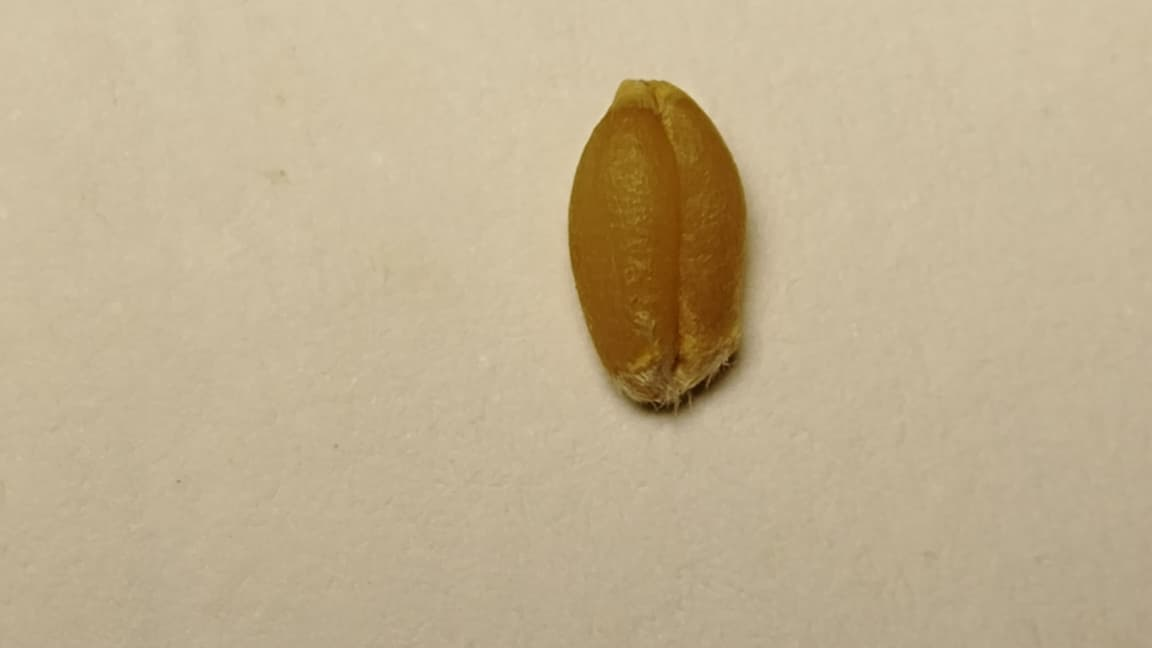healthy: (569, 79, 746, 406)
